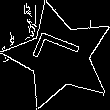L_E: (29, 33, 90, 80)
